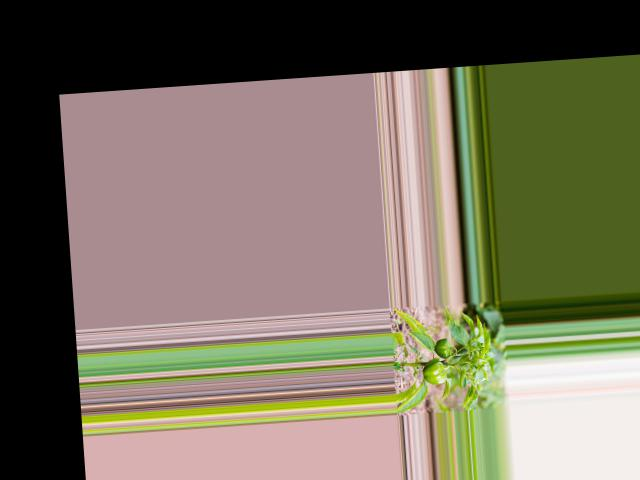bell_pepper: (432, 336, 453, 359)
